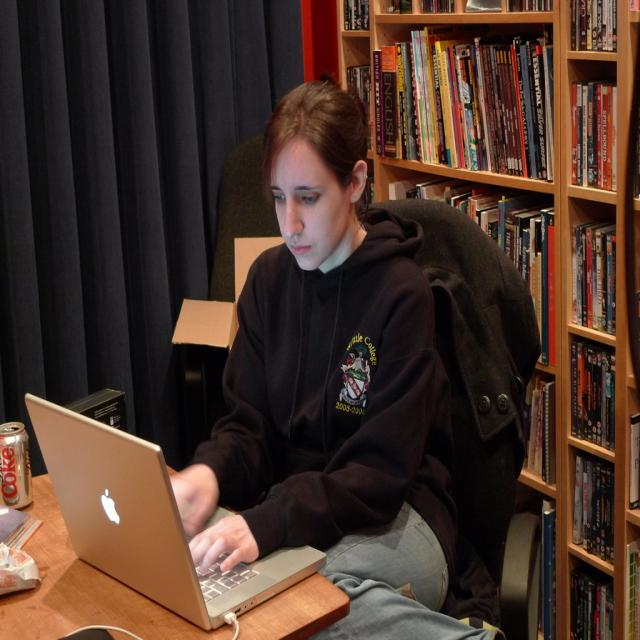desk: (0, 473, 348, 639)
laptop: (22, 389, 328, 631)
person: (164, 84, 454, 634)
